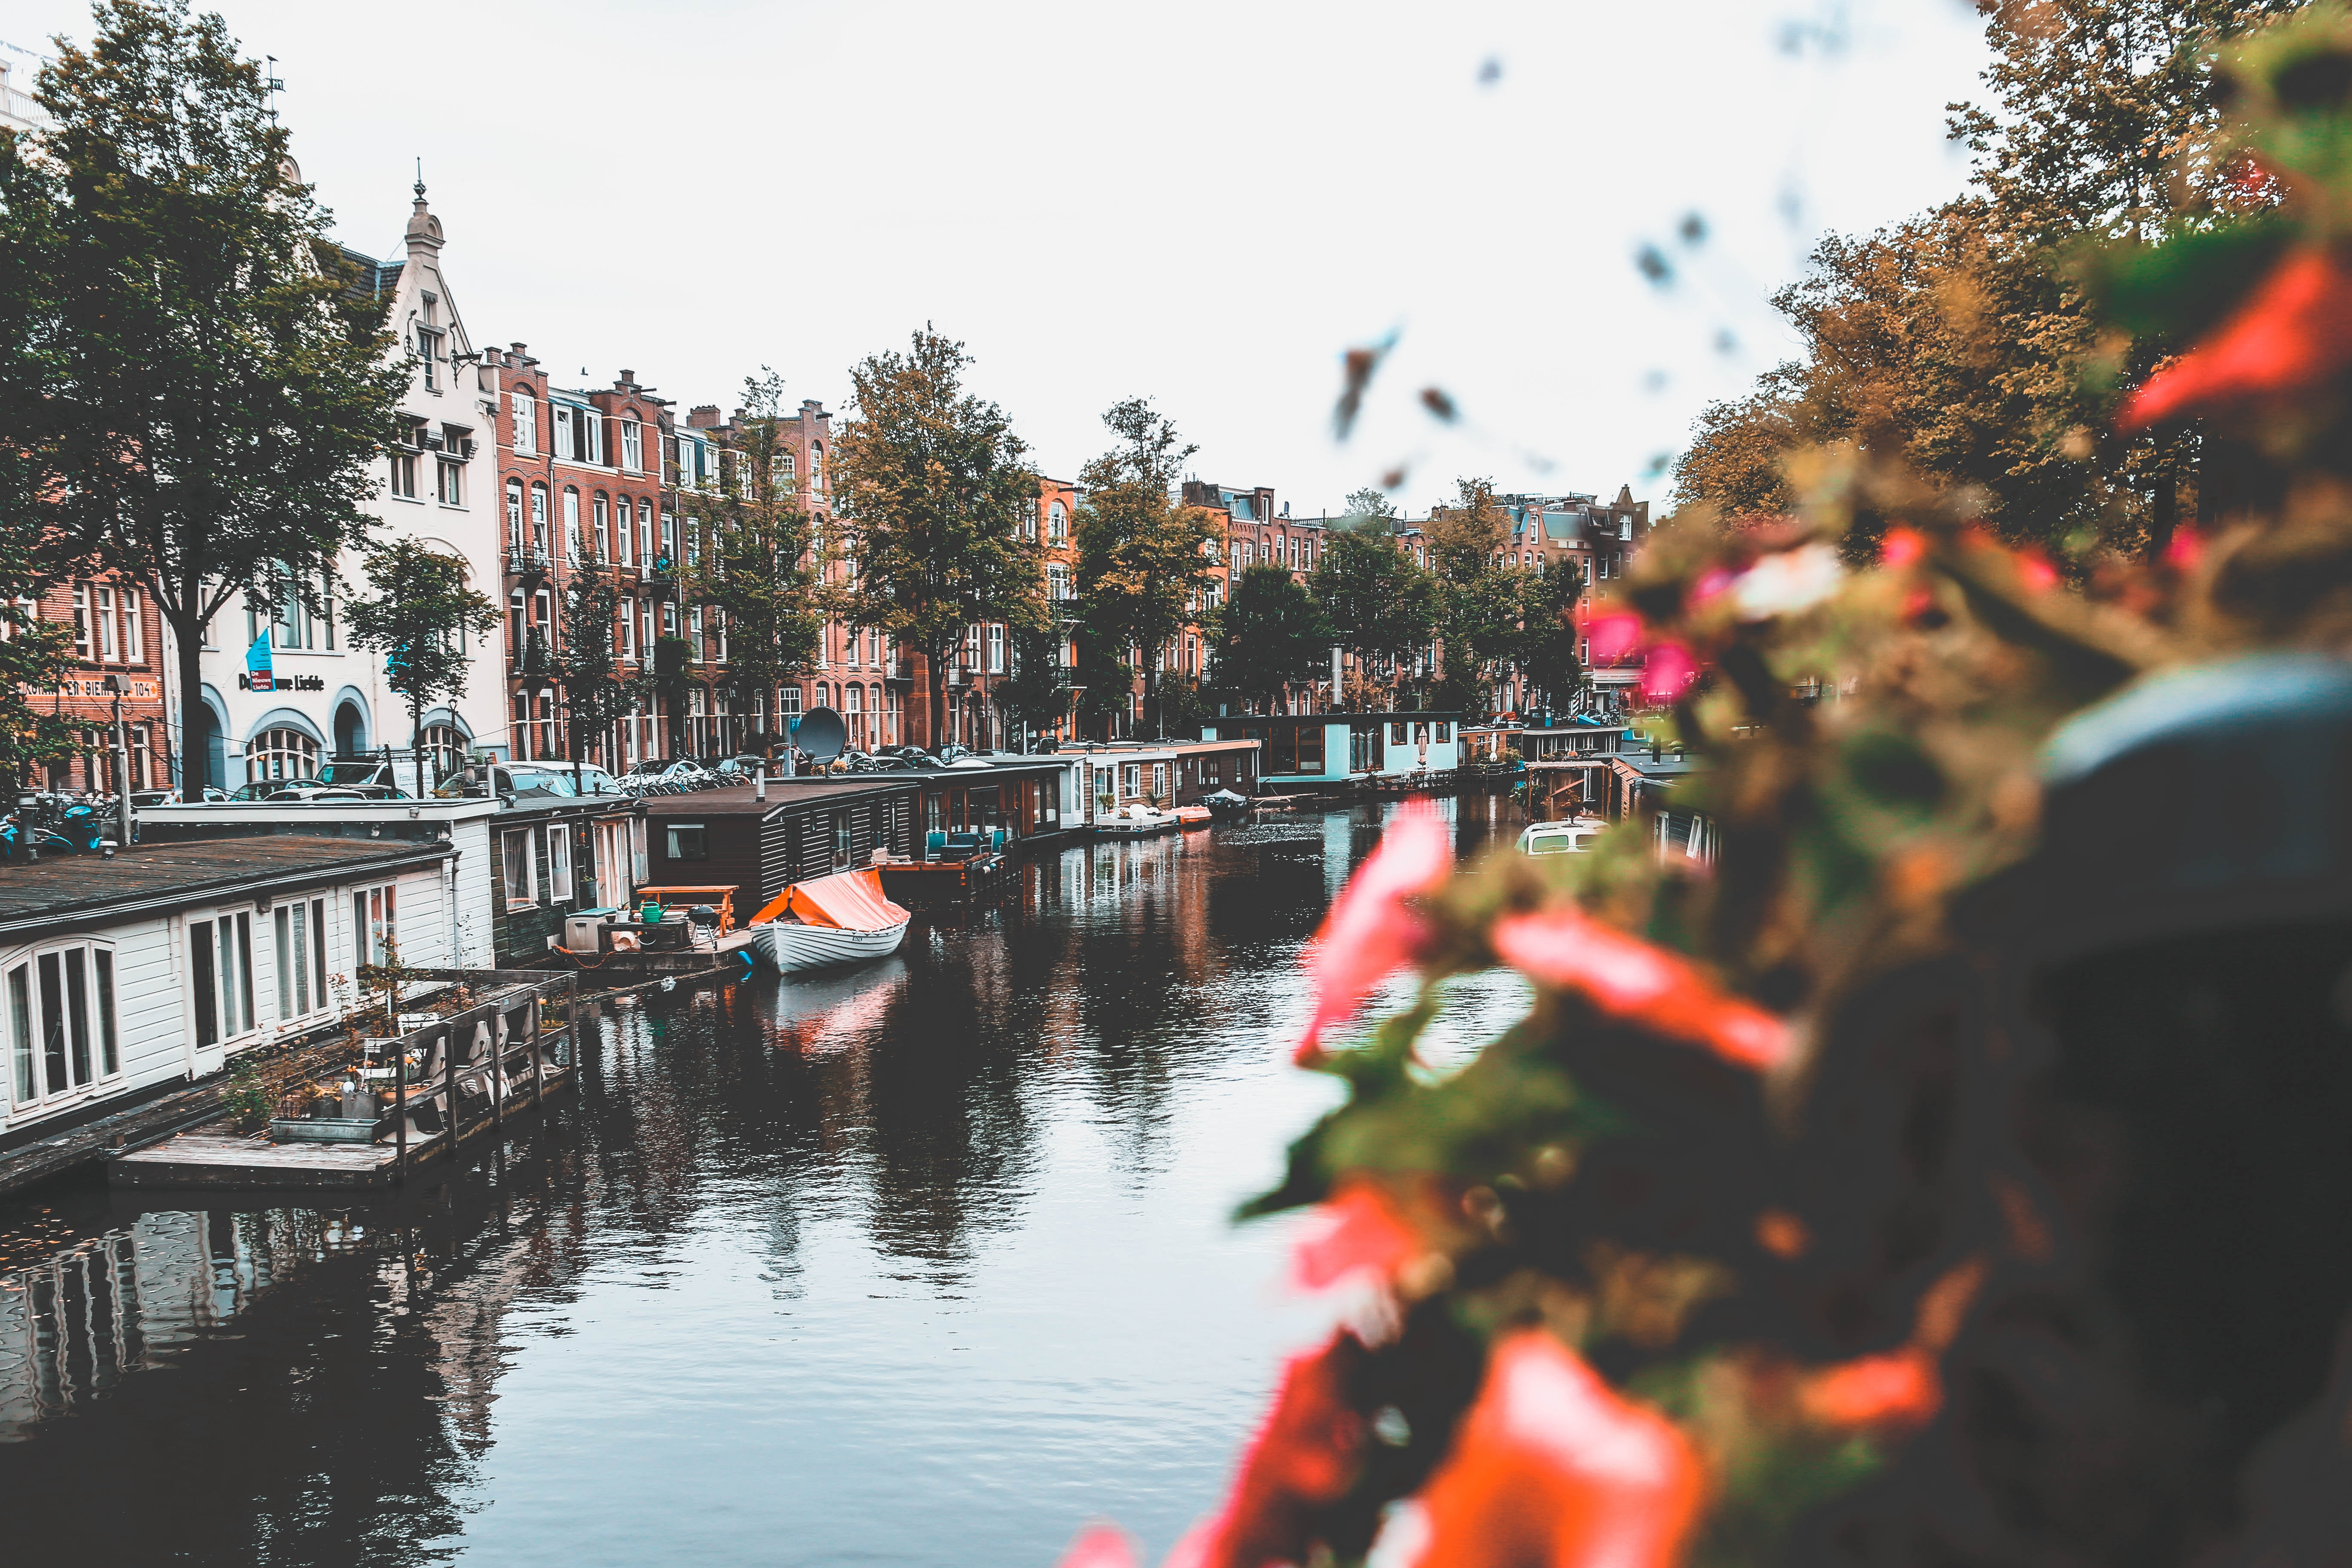tree: (0, 0, 425, 803), (815, 317, 1060, 756), (1055, 390, 1232, 740)
